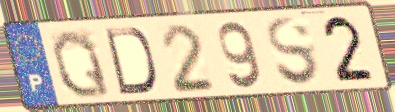2: (160, 21, 218, 95), (321, 14, 377, 84)
9: (215, 19, 264, 92)
D: (102, 26, 159, 97)
Q: (49, 27, 114, 100)
S: (264, 15, 324, 89)
